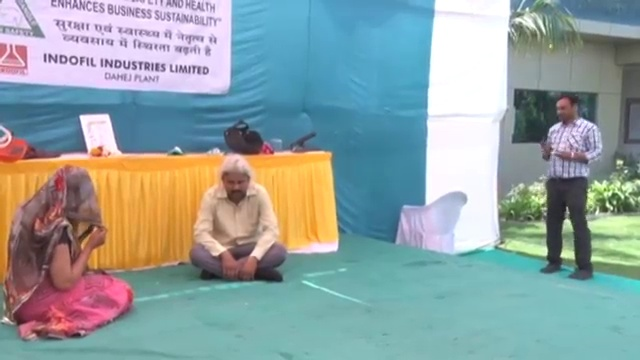helmet_off: (48, 166, 96, 208), (220, 156, 250, 205), (554, 93, 579, 124)
person: (1, 162, 133, 342), (187, 155, 288, 283), (537, 91, 602, 284)
